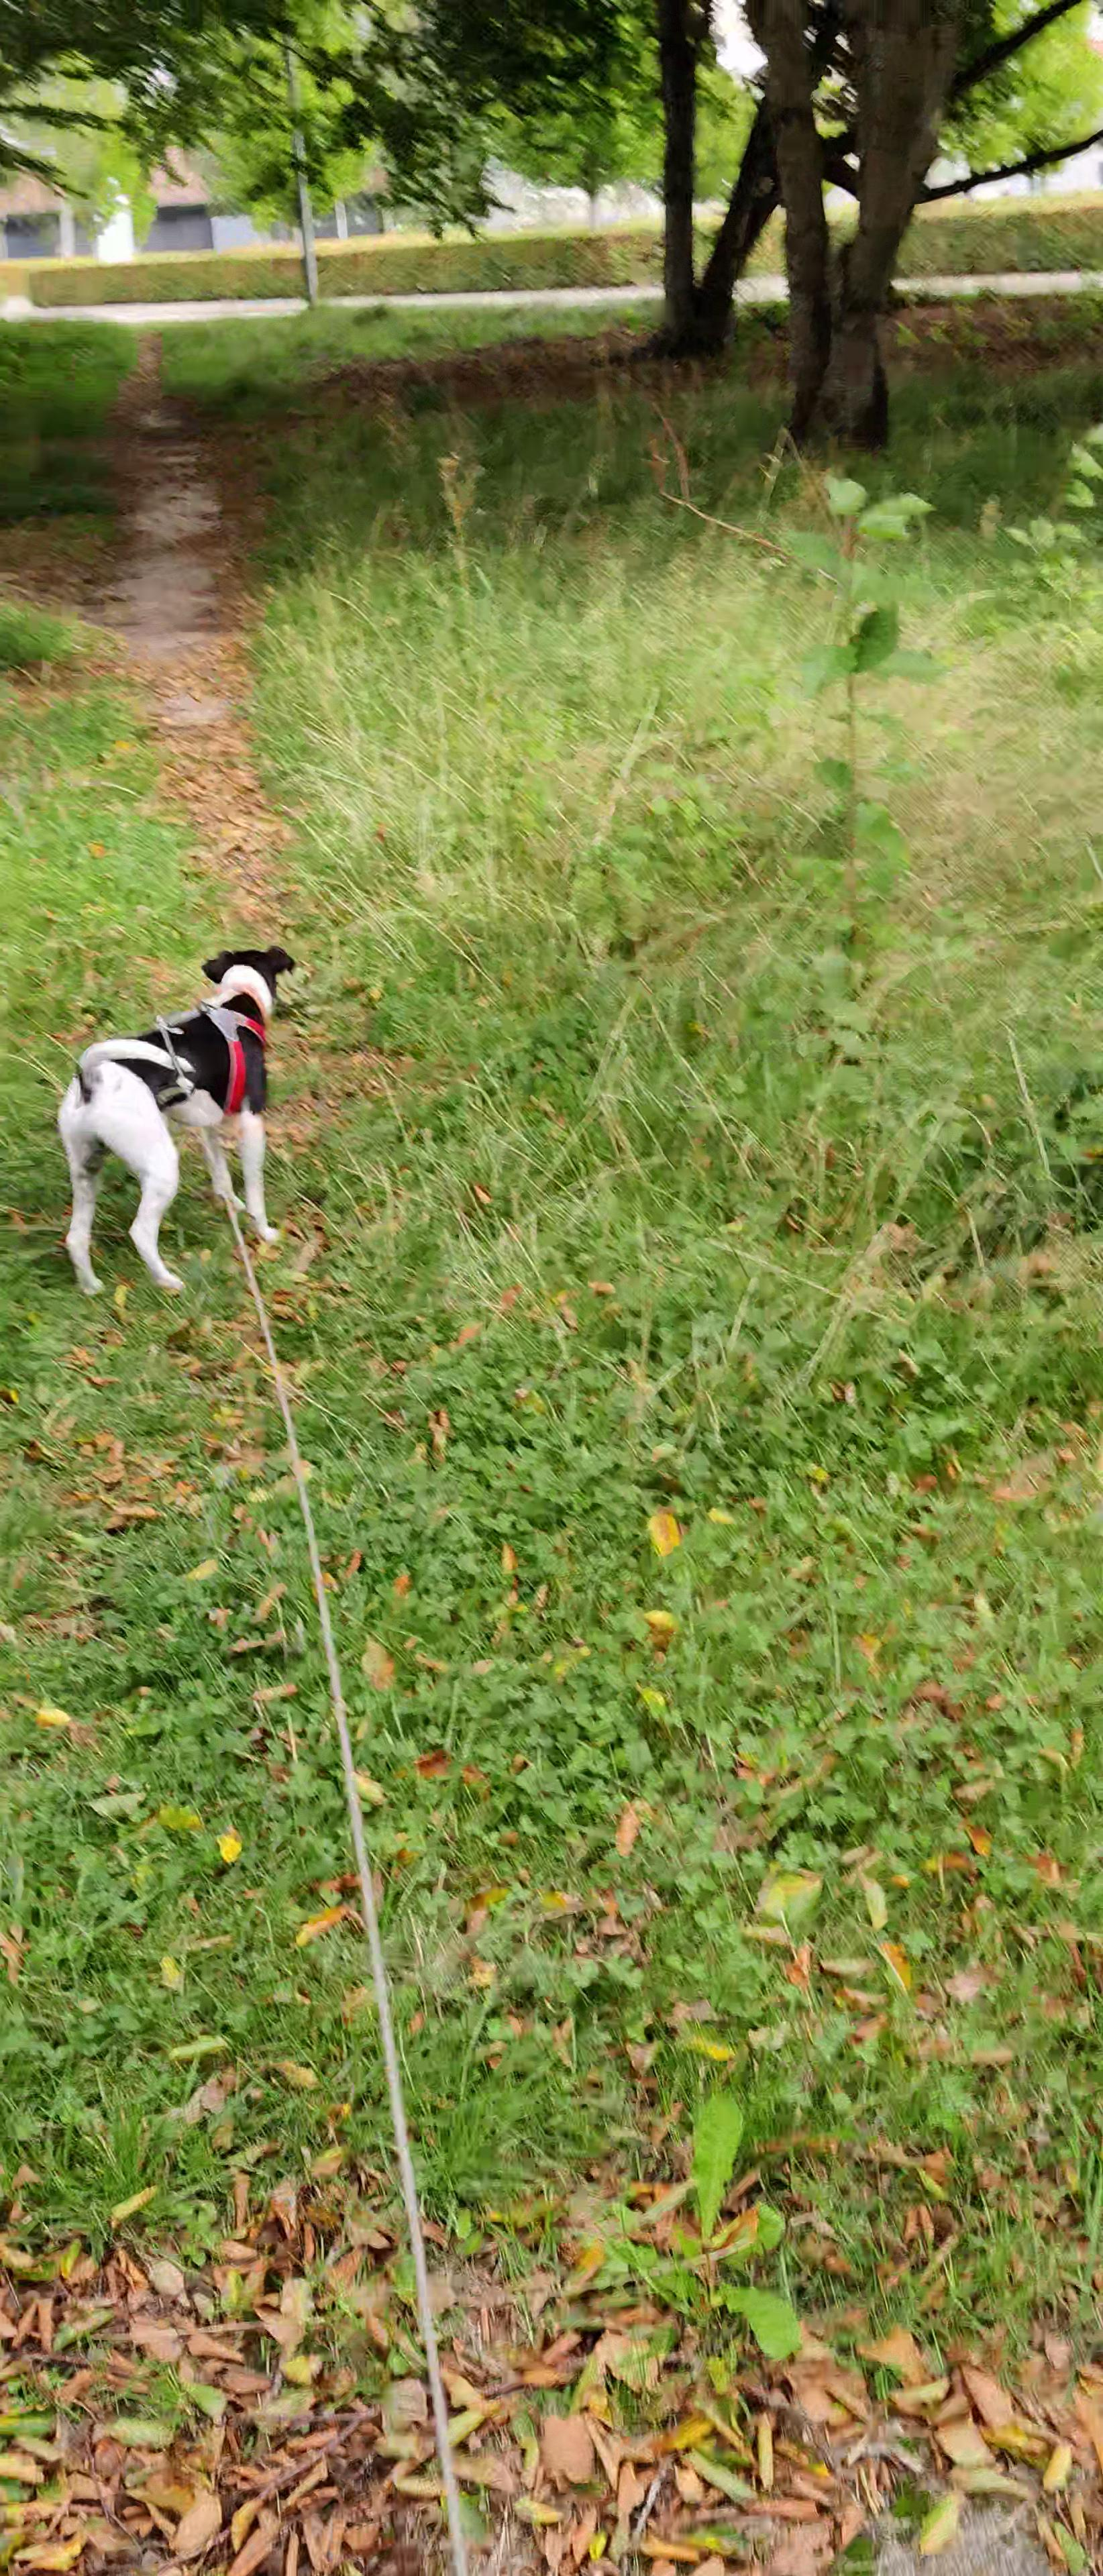Dog: (56, 945, 301, 1295)
